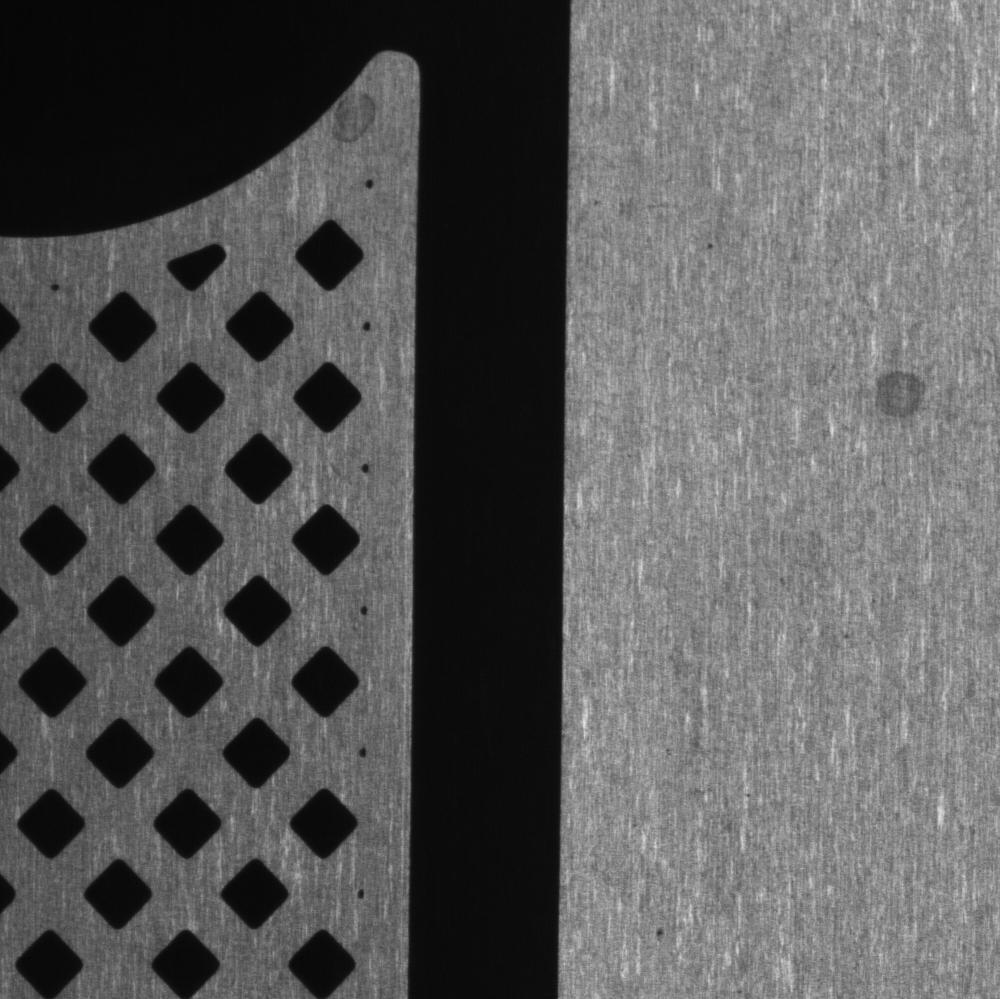Discolor: (865, 364, 933, 426), (325, 89, 384, 150)
Pinhole: (641, 907, 677, 952), (696, 235, 725, 258)
